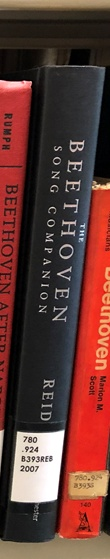call_number: (11, 430, 64, 502), (70, 473, 109, 497)
